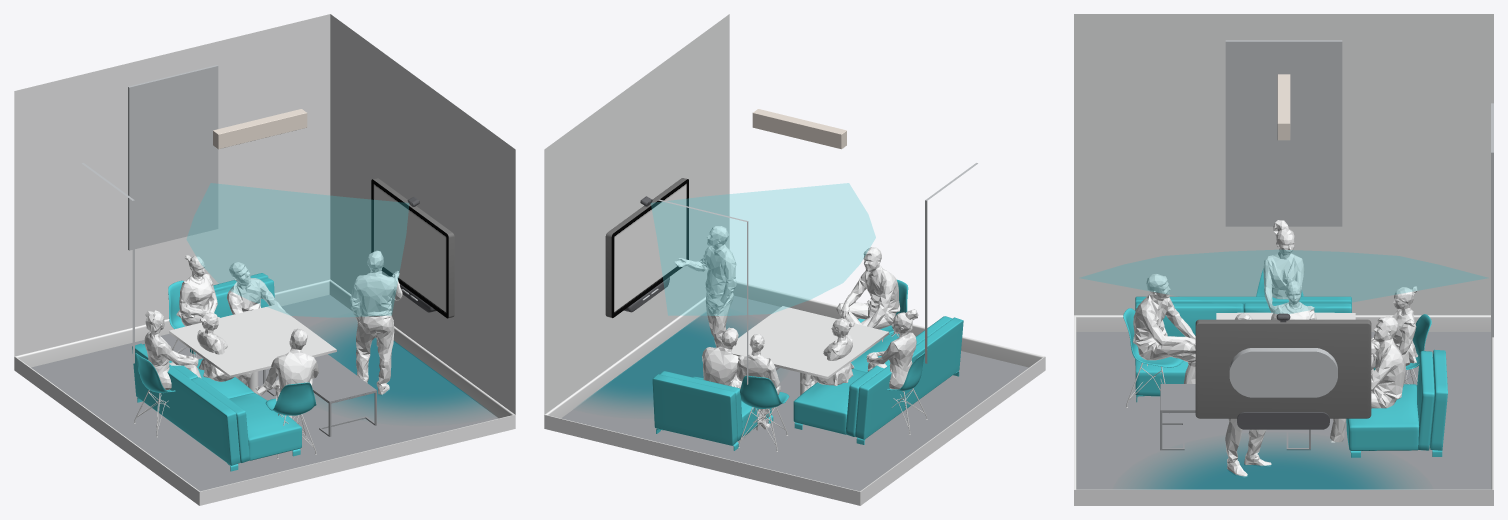
File: JamSoloA_DisplaysAndExtras.gltf
3 views of the same model, side by side, from view 1: azimuth 30°, elevation 25°; view 2: azimuth 150°, elevation 25°; view 3: azimuth 270°, elevation 25° (orthographic). The views are drawn at different scales.
Visible parts, largest first — view 1: 1mPlane_(2), 1mPlane_(4), 1mPlane, anno_displaysAndExtras_jamBoard_jamCam, acousticPanel002, NewSofa, AtlasScreen017, anno_displaysAndExtras_jamBoard_jamZone, Table, skirtingBoard01, lowpolyPeopleCasualMan2, skirtingBoard00 (+14 smaller); view 2: 1mPlane_(4), anno_displaysAndExtras_jamBoard_jamCam, 1mPlane, NewSofa, AtlasScreen017, NewSofa001, Table, anno_displaysAndExtras_jamBoard_jamZone, skirtingBoard02, lowpolyPeopleCasualMan2, lowpolyPeopleSittinglMan002, skirtingBoard00 (+10 smaller); view 3: 1mPlane_(3), 1mPlane, acousticPanel003, anno_displaysAndExtras_jamBoard_jamCam, AtlasScreen017, anno_displaysAndExtras_jamBoard_jamZone, skirtingBoard03, NewSofa001, AtlasBackbox017, NewSofa, lowpolyPeopleSittinglMan002, lowpolyPeopleSittinglMan (+13 smaller).
Boxes of the visible parts, left/top/right/bottom form: 1mPlane_(2): left=14, top=14, right=330, bottom=356; 1mPlane_(4): left=330, top=14, right=515, bottom=414; 1mPlane: left=31, top=294, right=498, bottom=491; anno_displaysAndExtras_jamBoard_jamCam: left=187, top=183, right=408, bottom=317; acousticPanel002: left=128, top=65, right=218, bottom=250; NewSofa: left=132, top=343, right=301, bottom=471; AtlasScreen017: left=371, top=178, right=454, bottom=318; anno_displaysAndExtras_jamBoard_jamZone: left=319, top=320, right=486, bottom=417; Table: left=169, top=304, right=336, bottom=394; skirtingBoard01: left=198, top=415, right=514, bottom=505; lowpolyPeopleCasualMan2: left=350, top=250, right=402, bottom=395; skirtingBoard00: left=15, top=356, right=201, bottom=505; 1mPlane_(4): left=544, top=14, right=729, bottom=414; anno_displaysAndExtras_jamBoard_jamCam: left=651, top=183, right=875, bottom=315; 1mPlane: left=561, top=295, right=1028, bottom=491; NewSofa: left=793, top=316, right=963, bottom=444; AtlasScreen017: left=605, top=178, right=688, bottom=318; NewSofa001: left=652, top=371, right=773, bottom=450; Table: left=731, top=306, right=889, bottom=395; anno_displaysAndExtras_jamBoard_jamZone: left=582, top=314, right=750, bottom=410; skirtingBoard02: left=544, top=415, right=861, bottom=505; lowpolyPeopleCasualMan2: left=674, top=226, right=736, bottom=347; lowpolyPeopleSittinglMan002: left=836, top=247, right=900, bottom=329; skirtingBoard00: left=860, top=356, right=1045, bottom=504; 1mPlane_(3): left=1074, top=14, right=1493, bottom=315; 1mPlane: left=1076, top=332, right=1491, bottom=489; acousticPanel003: left=1225, top=40, right=1342, bottom=226; anno_displaysAndExtras_jamBoard_jamCam: left=1080, top=250, right=1487, bottom=313; AtlasScreen017: left=1195, top=319, right=1371, bottom=418; anno_displaysAndExtras_jamBoard_jamZone: left=1135, top=441, right=1410, bottom=489; skirtingBoard03: left=1075, top=489, right=1493, bottom=505; NewSofa001: left=1346, top=349, right=1447, bottom=457; AtlasBackbox017: left=1229, top=348, right=1337, bottom=397; NewSofa: left=1135, top=296, right=1351, bottom=402; lowpolyPeopleSittinglMan002: left=1133, top=273, right=1195, bottom=383; lowpolyPeopleSittinglMan: left=1330, top=316, right=1406, bottom=442.
Size of the model in its own units: 355 by 312 by 360.
Materials: 16 (3 with a texture image).
